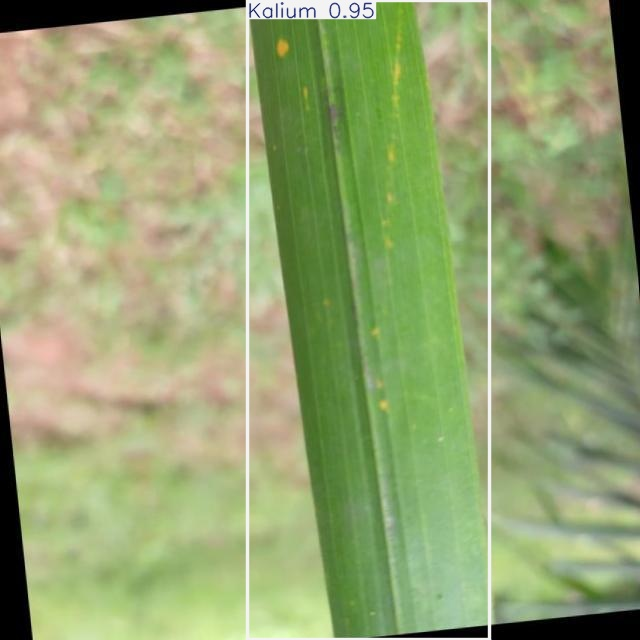Kalium: (248, 0, 490, 640)
